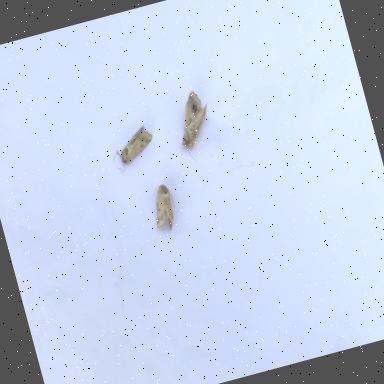abw: (168, 85, 222, 166), (104, 120, 162, 176), (146, 180, 184, 236)
